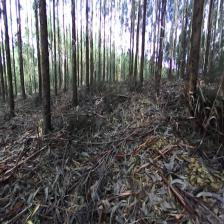trunk: (184, 3, 204, 102), (39, 0, 52, 134), (154, 4, 166, 96), (3, 14, 14, 114), (71, 13, 78, 106), (139, 9, 146, 90), (132, 13, 140, 82), (18, 26, 25, 95), (53, 23, 57, 95), (85, 24, 89, 92), (90, 35, 94, 87)
